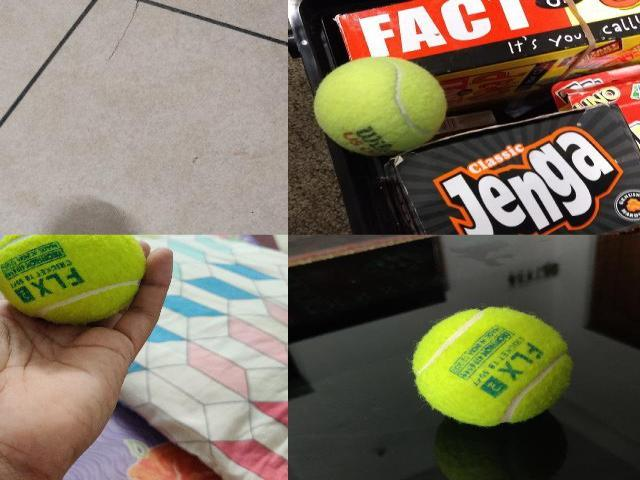tennis-ball: (410, 305, 574, 427), (312, 55, 450, 158), (0, 235, 146, 323)
